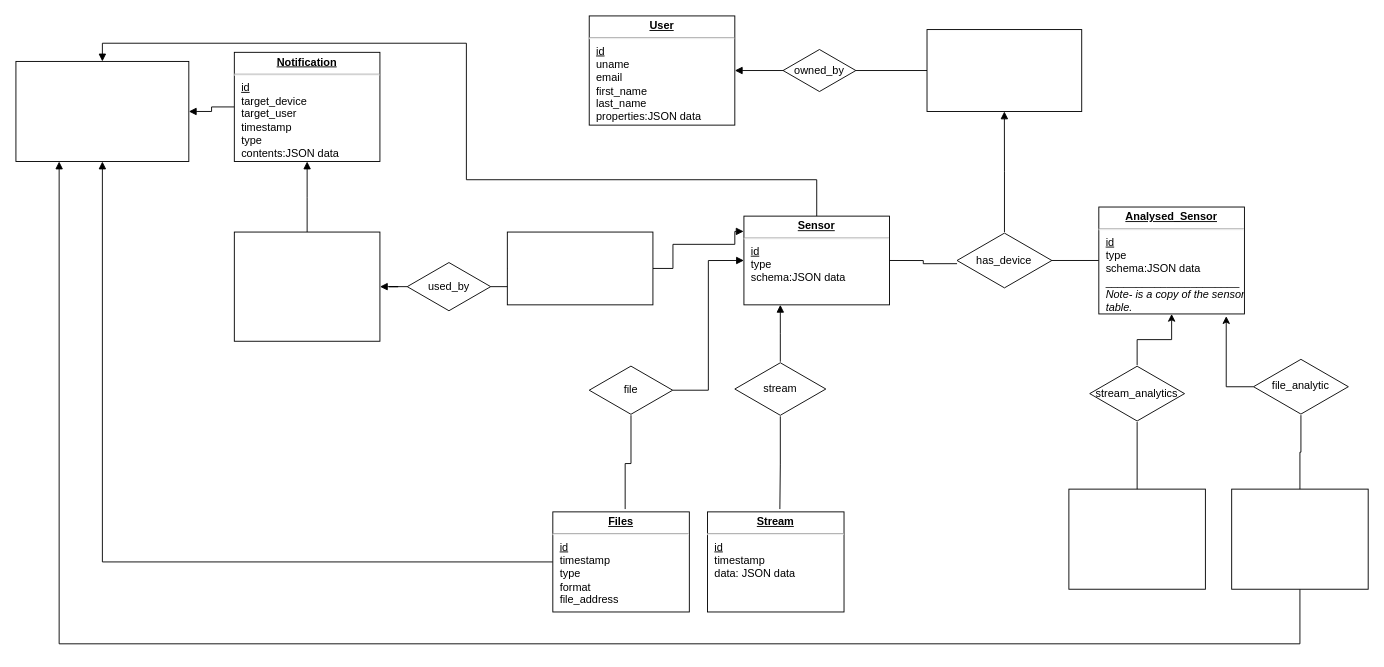
This 1384x667 diagram has some shape labels left out. The shapes that lost their labels are listed below. From the top down, each one's box as (x1, y1, x2, y2) in pixels, then its label:
(926, 29, 1082, 111): Device id name properties:JSON data
(15, 61, 189, 162): Type id type table { Sensor, Notif,File }
(233, 231, 380, 341): Application id name properties:JSON data
(506, 231, 653, 305): User:Sensor user_id sensor_id
(1068, 488, 1205, 589): Stream_Analytics id timestamp data: JSON data
(1231, 488, 1368, 589): File_Analytics id timestamp type data: JSON data
